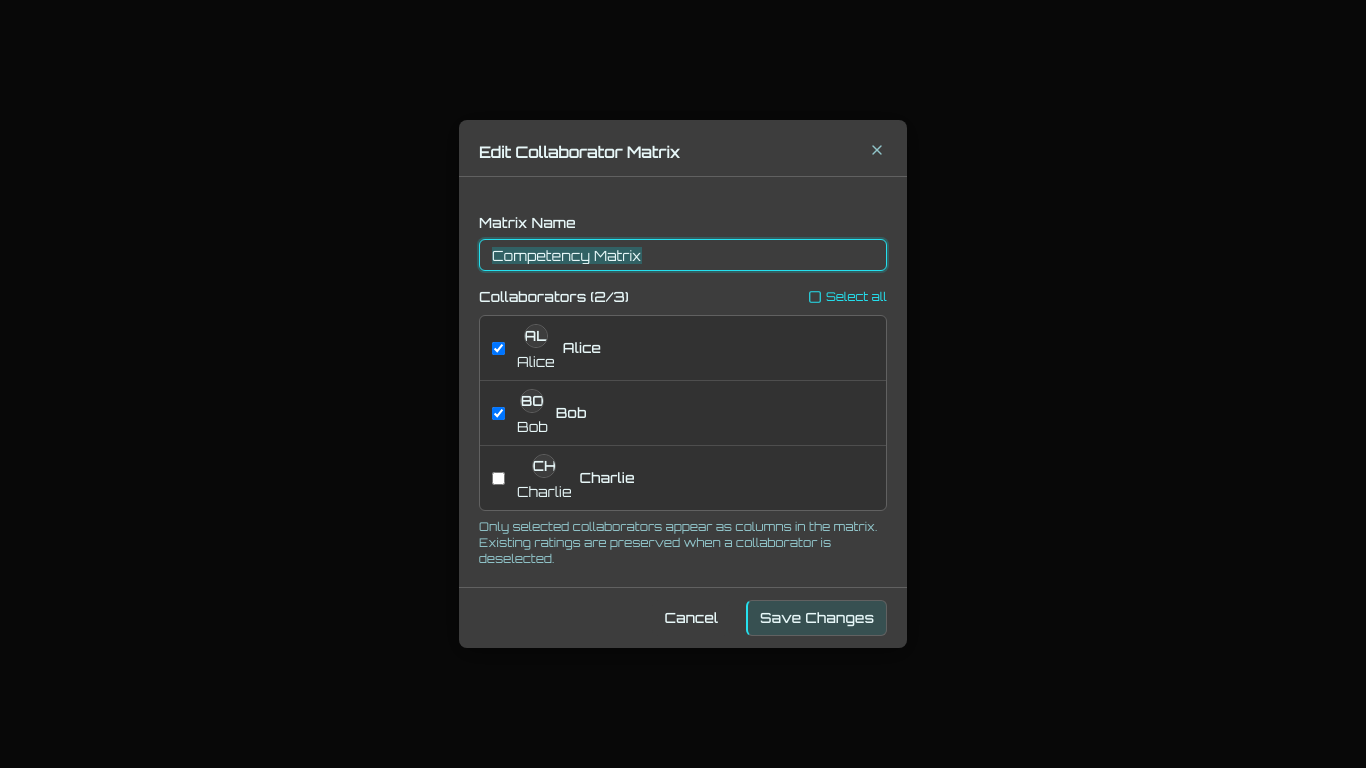
Test case: EditCollaboratorMatrixDialog › toggles select all and deselect all
Click the button "Select all" at x=847, y=297, box [808,289,887,305]
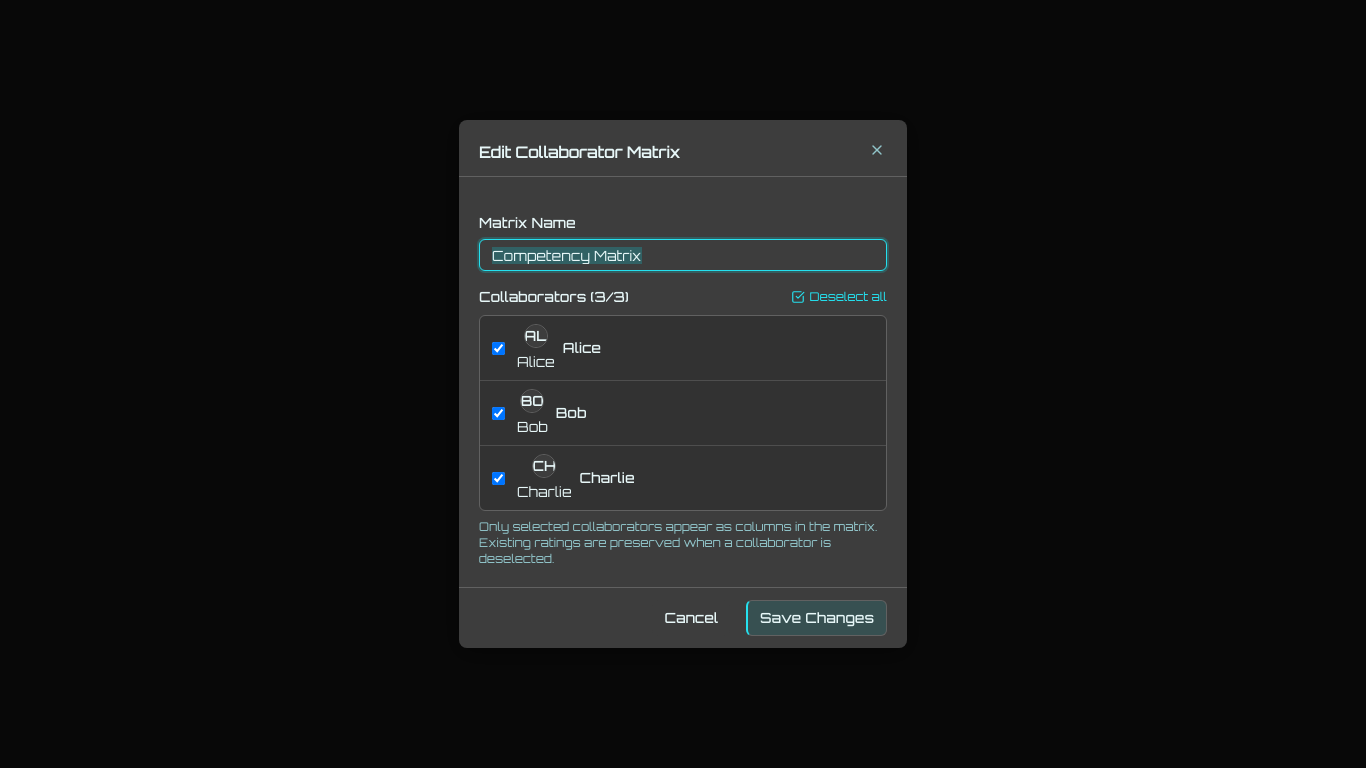
Expected: the checkbox labelled "Alice" is checked, [492,342,505,354]
Now the checkbox labelled "Charlie" is checked, box [492,472,505,484]
Click the button "Deselect all" at x=839, y=297, box [791,289,887,305]
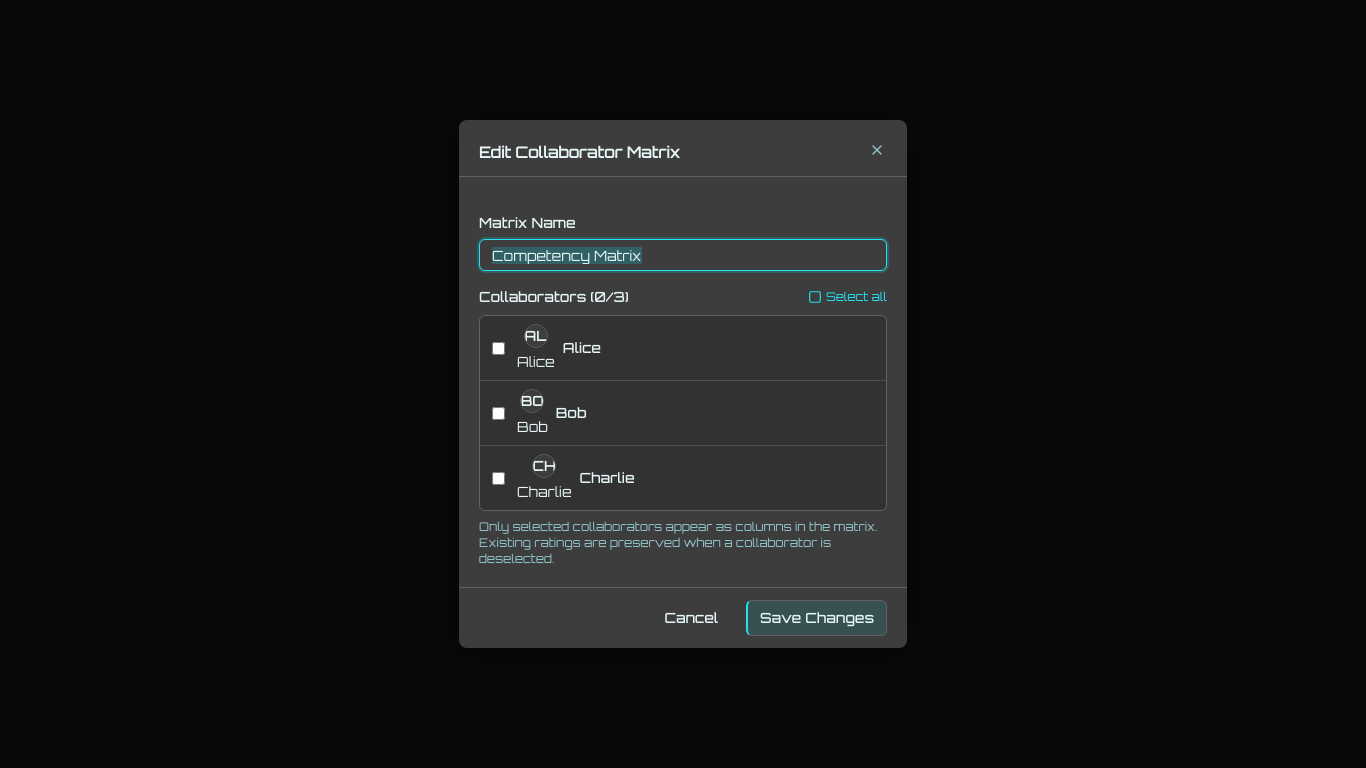
Now the checkbox labelled "Alice" is not checked, box [492,342,505,354]
Now the checkbox labelled "Bob" is not checked, box [492,406,505,420]
Now the checkbox labelled "Charlie" is not checked, box [492,472,505,484]
